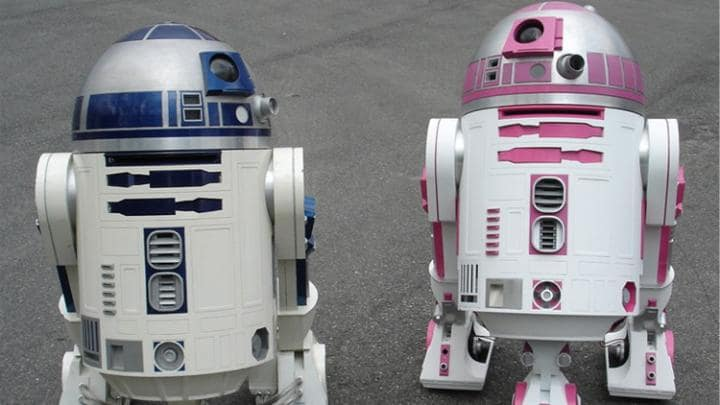r2d2: (34, 22, 329, 405)
